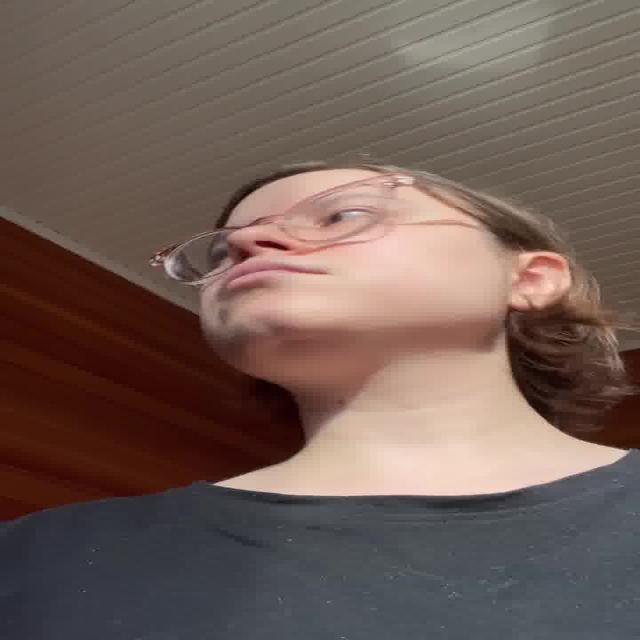earlobe: (511, 290, 556, 314)
eye: (318, 207, 382, 226)
nose: (230, 250, 304, 262)
wholeear: (512, 253, 572, 313)
